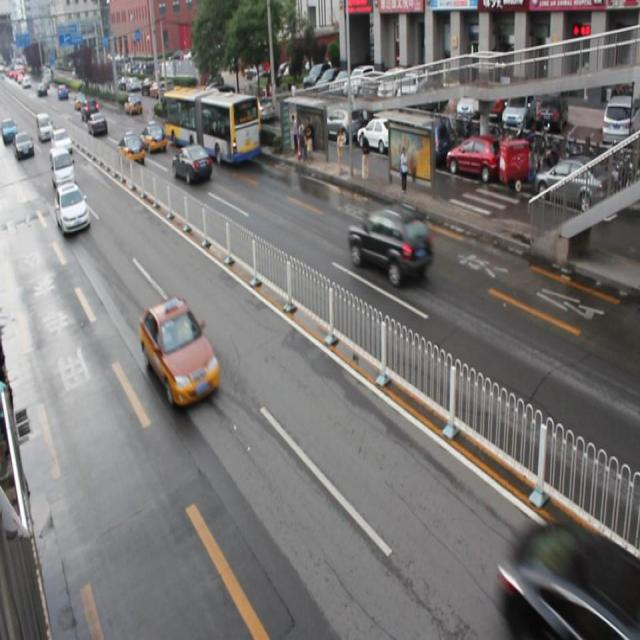car: (500, 519, 640, 640), (139, 297, 218, 403), (348, 204, 430, 287), (56, 184, 90, 234), (172, 145, 212, 182), (140, 118, 168, 152), (117, 132, 146, 164)
truck: (50, 149, 74, 190)
van: (164, 86, 260, 166)
